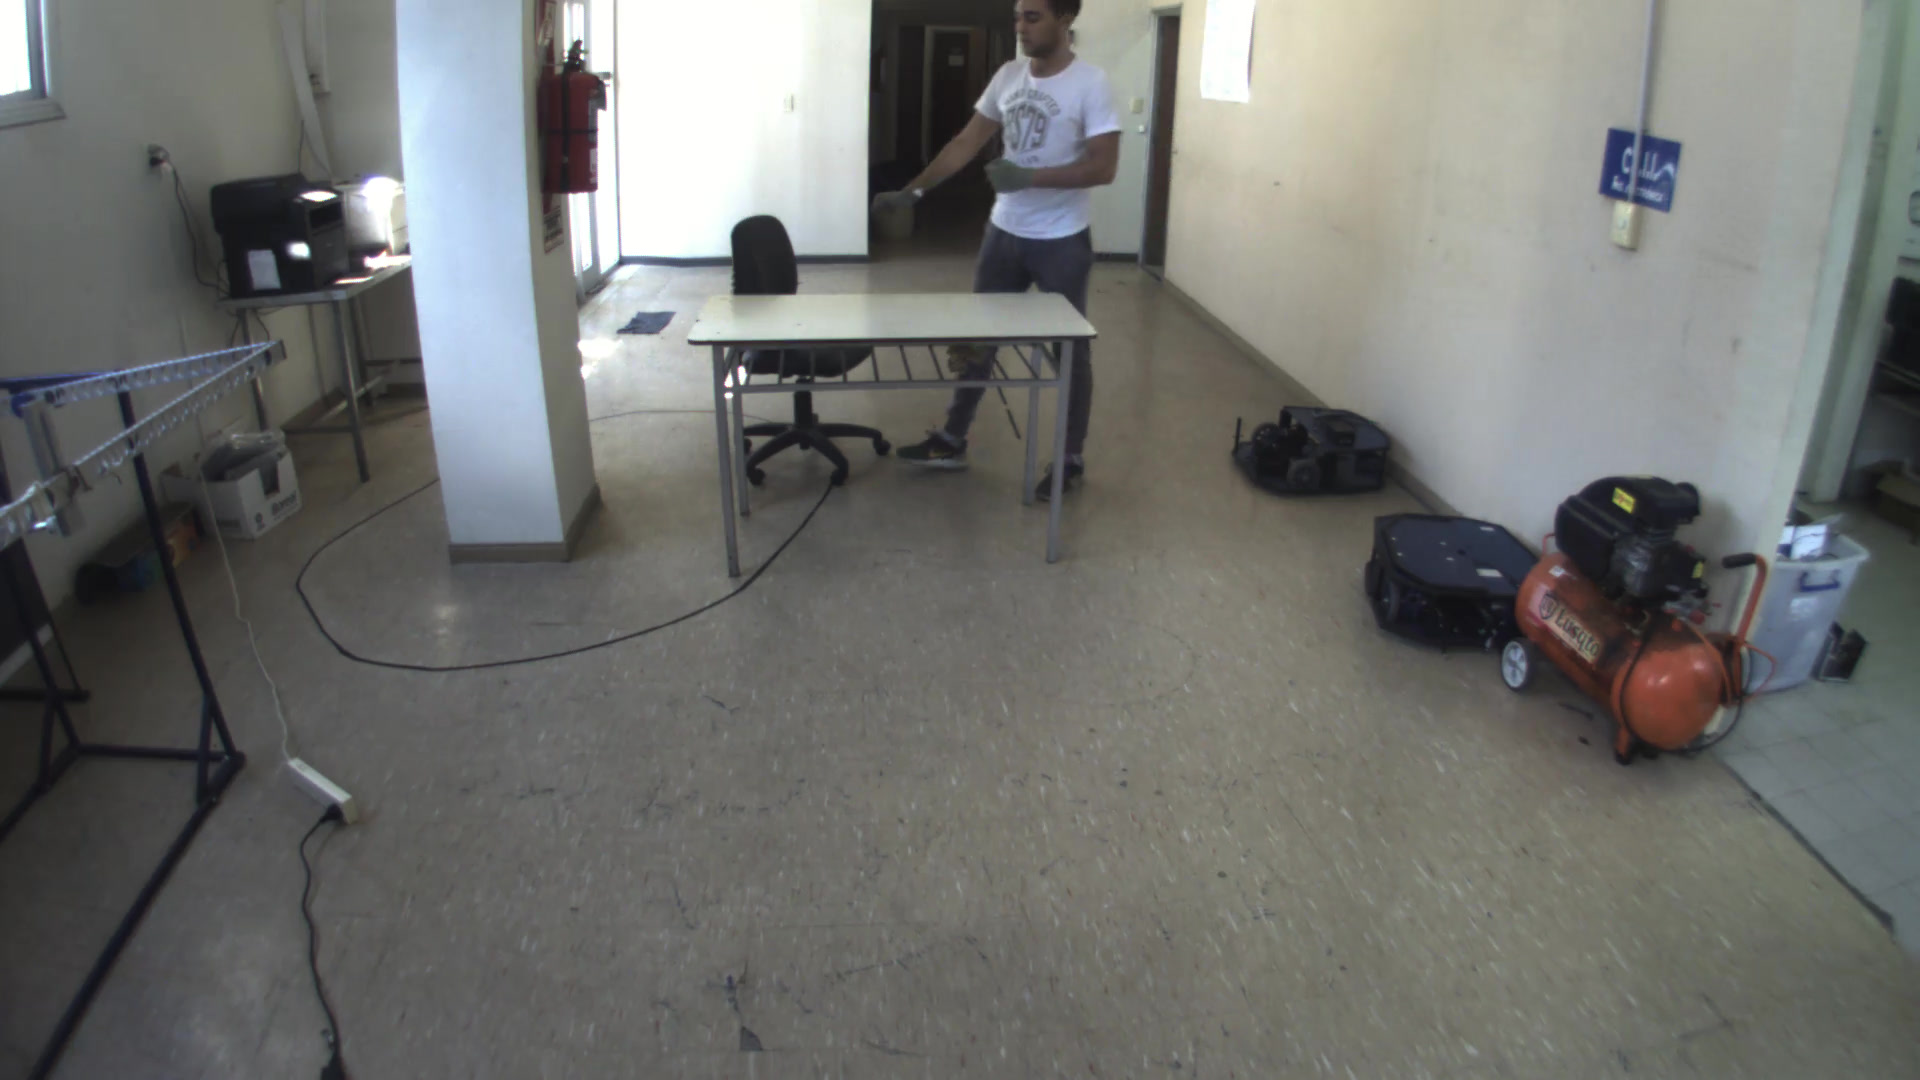hand: (868, 187, 920, 249), (986, 146, 1043, 199)
